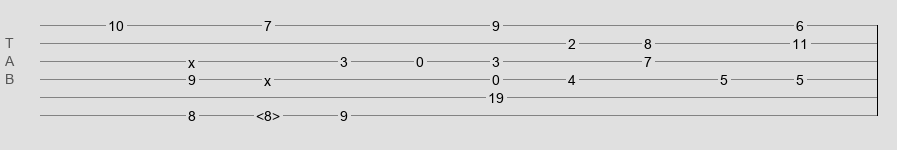0: (416, 54, 424, 64), (492, 72, 500, 82)
10: (108, 18, 124, 28)
11: (792, 36, 808, 46)
19: (488, 90, 504, 100)
2: (568, 36, 576, 46)
3: (340, 54, 348, 64), (492, 54, 500, 64)
4: (568, 72, 576, 82)
5: (720, 72, 728, 82), (796, 72, 804, 82)
6: (796, 18, 804, 28)
7: (264, 18, 272, 28), (644, 54, 652, 64)
8: (188, 108, 196, 118), (644, 36, 652, 46)
9: (188, 72, 196, 82), (340, 108, 348, 118), (492, 18, 500, 28)
harmonic: (256, 108, 280, 118)
x: (188, 55, 195, 63), (264, 73, 271, 81)
